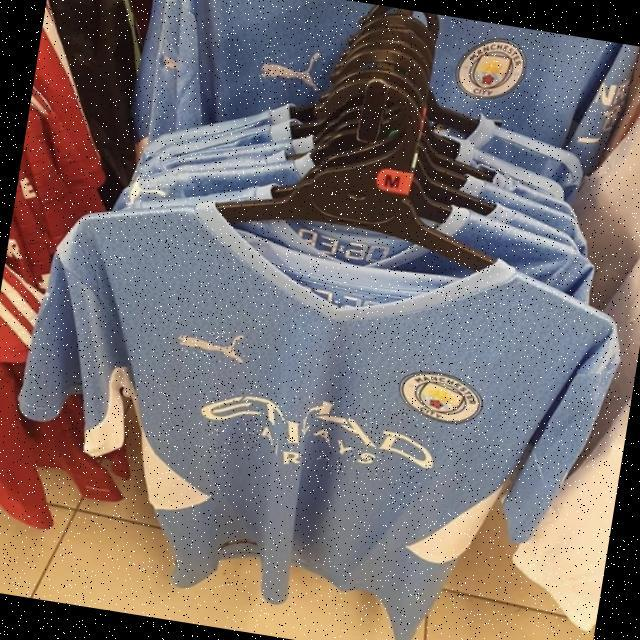Etihad Airways: (194, 381, 442, 491)
Puma: (258, 44, 328, 95), (176, 325, 250, 367)
